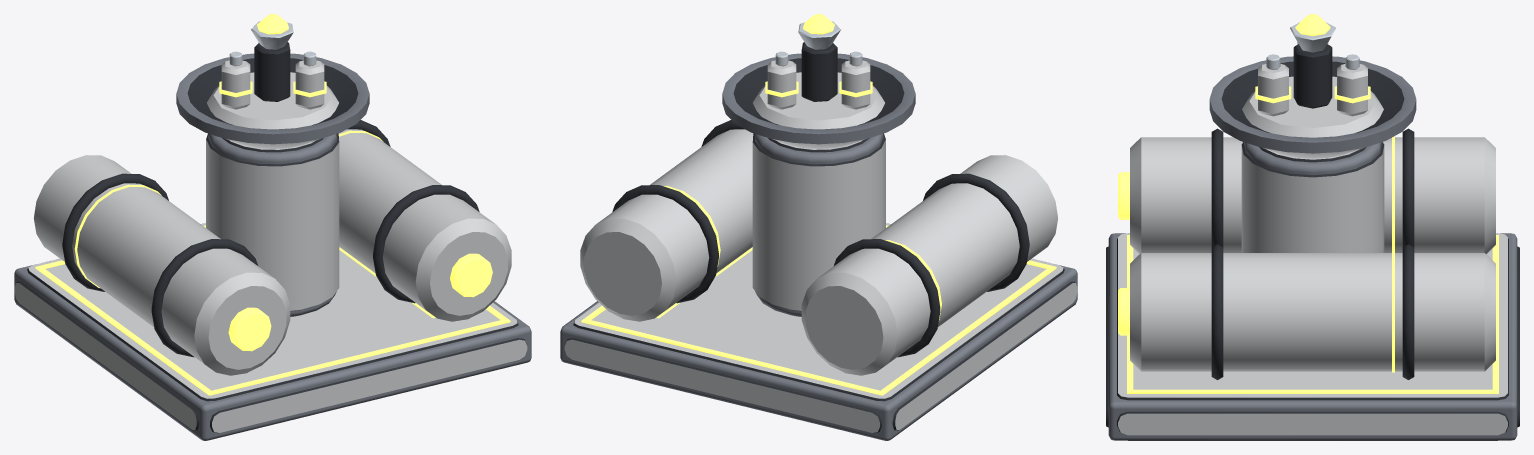
Rendered from R4X_BurnTrapDeployer.fbx.
3 renders of one model, left to right at view 1: azimuth 30°, elevation 25°; view 2: azimuth 150°, elevation 25°; view 3: azimuth 270°, elevation 25°, orthographic. The views are drawn at different scales.
Visible parts, largest first — view 1: R4X_BurnTrapDeployer_Body, R4X_BurnTrapDeployer_Payload; view 2: R4X_BurnTrapDeployer_Body, R4X_BurnTrapDeployer_Payload; view 3: R4X_BurnTrapDeployer_Body, R4X_BurnTrapDeployer_Payload.
Boxes of the visible parts, box(x1,y1,x2,y2) form: R4X_BurnTrapDeployer_Body: box(14, 53, 531, 440); R4X_BurnTrapDeployer_Payload: box(207, 14, 338, 129); R4X_BurnTrapDeployer_Body: box(560, 53, 1077, 440); R4X_BurnTrapDeployer_Payload: box(753, 14, 884, 129); R4X_BurnTrapDeployer_Body: box(1106, 56, 1519, 440); R4X_BurnTrapDeployer_Payload: box(1242, 14, 1383, 137).
Bounding box in the file's own units: 0.52 × 0.476 × 0.52.
